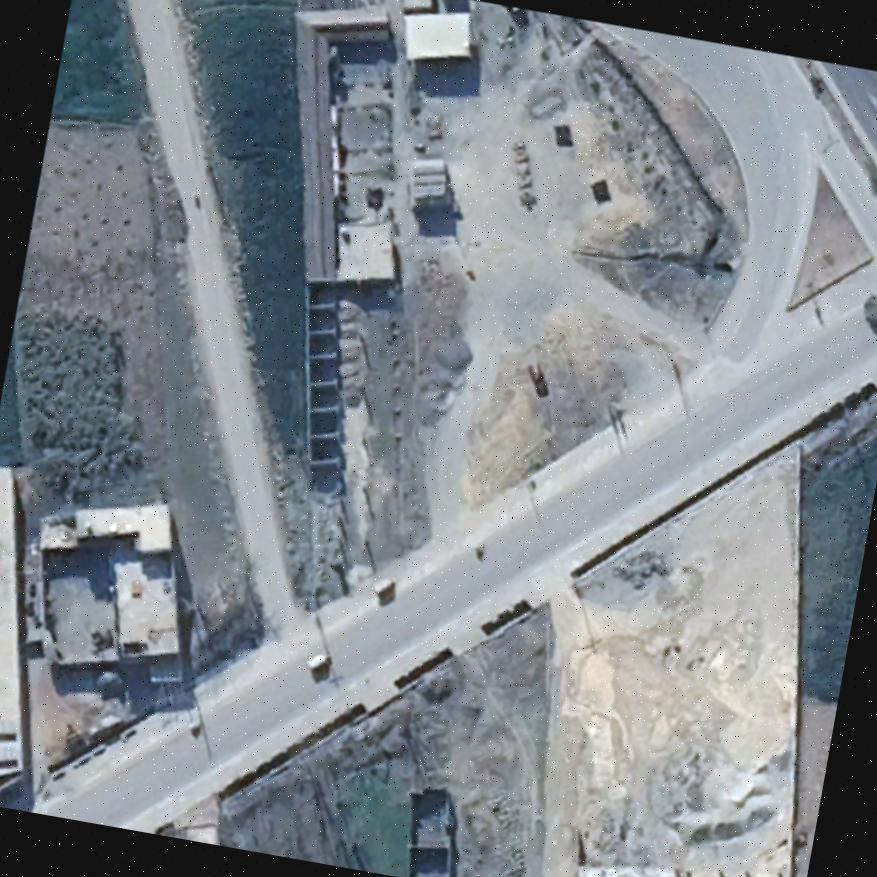Solarpanel: (0, 744, 20, 760), (0, 719, 18, 736)
